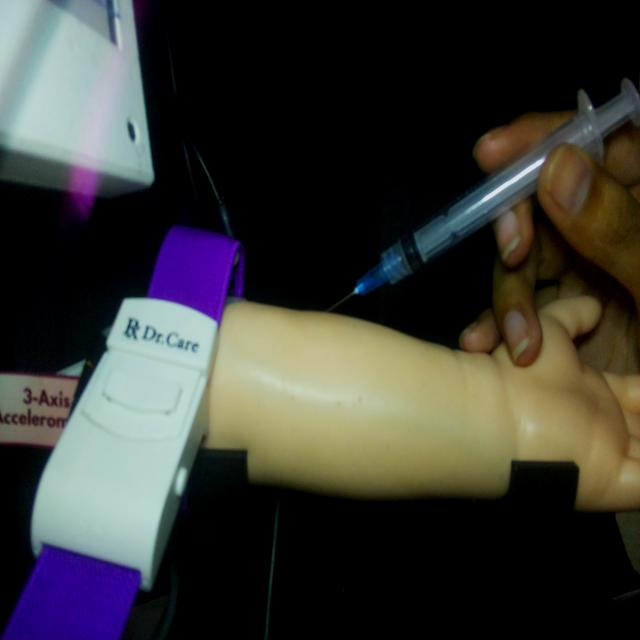27 degrees: (324, 74, 638, 314)
